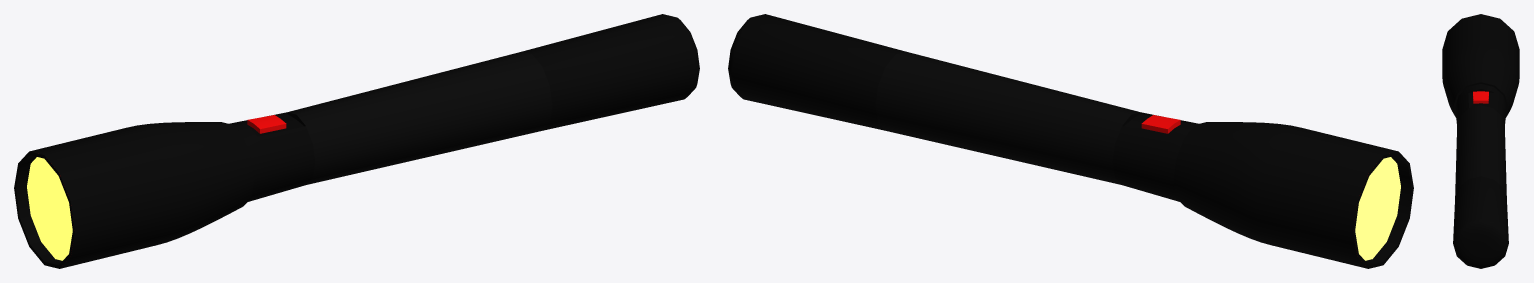
Rendered from Linterna.fbx.
3 views of the same model, side by side, from view 1: azimuth 30°, elevation 25°; view 2: azimuth 150°, elevation 25°; view 3: azimuth 270°, elevation 25° (orthographic). The views are drawn at different scales.
Parts seen in each view (by area): view 1: Line001; view 2: Line001; view 3: Line001.
Part boxes in pixels (<box>): Line001: <box>14,14,699,268</box>; Line001: <box>728,14,1413,268</box>; Line001: <box>1442,14,1519,268</box>.
Bounding box in the file's own units: 77.79 × 12.77 × 12.77.
